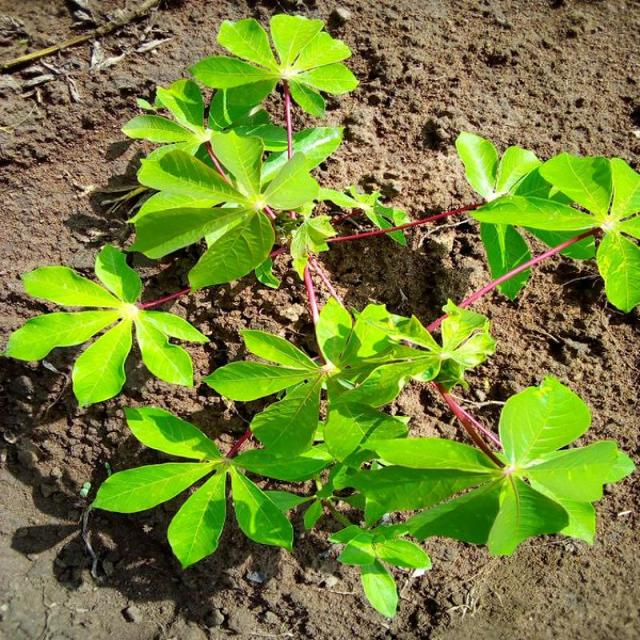cassava leaf: (3, 10, 637, 618), (335, 374, 635, 557), (2, 242, 210, 408), (456, 129, 638, 314)
